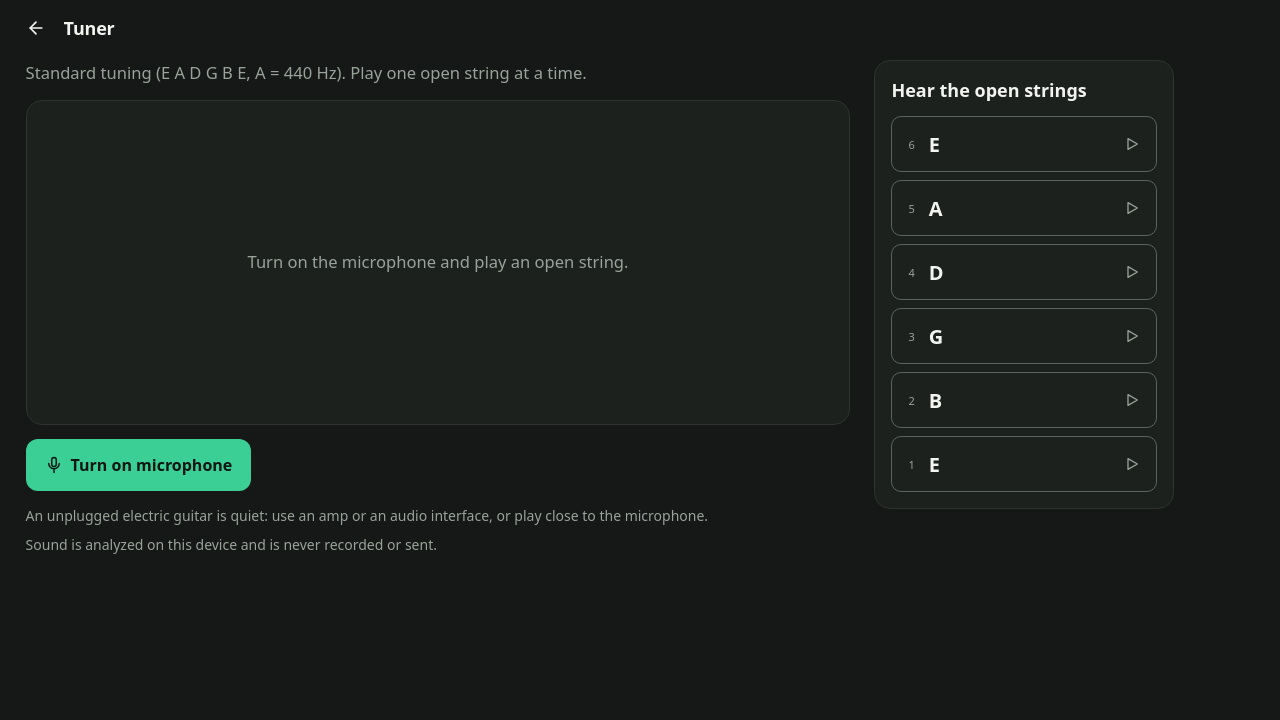
tuner › explains when microphone access is denied
Click the button "Turn on microphone" at (138, 465), box [26,439,251,491]
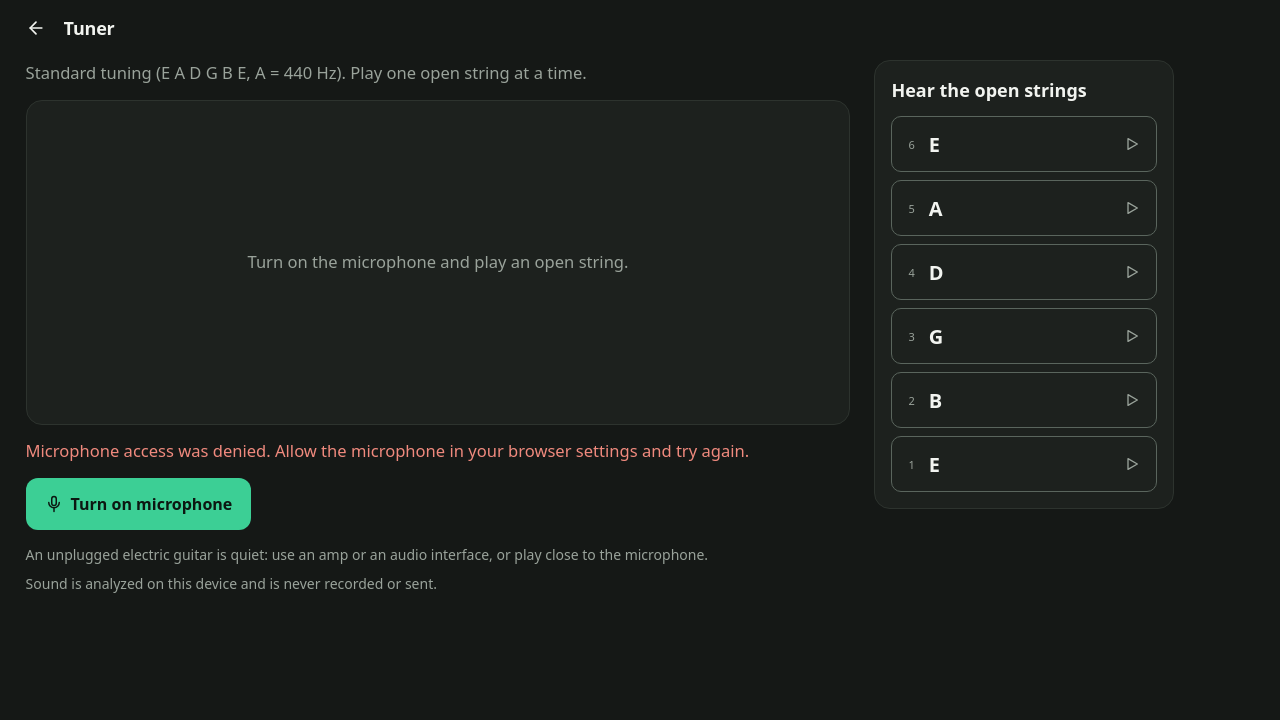
Check: the message shows "Microphone access was denied", box [26,439,749,462]
